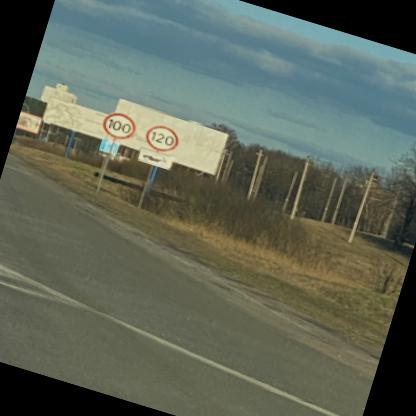speedlimit: (96, 106, 138, 142), (140, 119, 180, 154)
